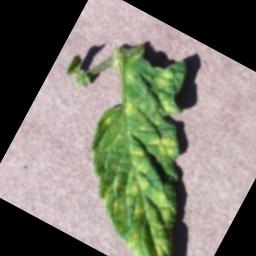Leaf_Mold: (37, 32, 256, 256)
